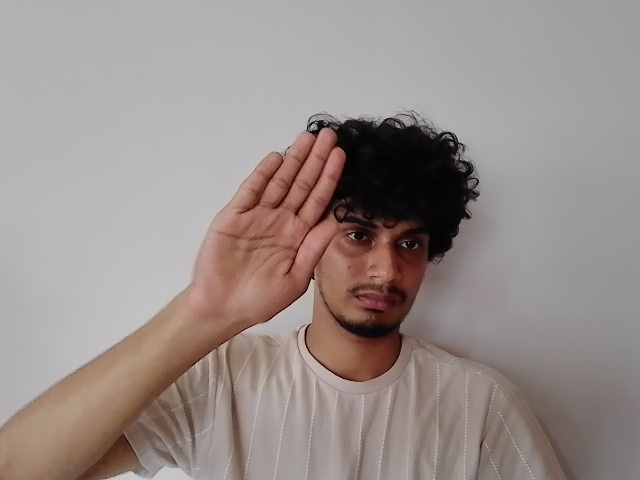hello: (195, 124, 347, 304)
